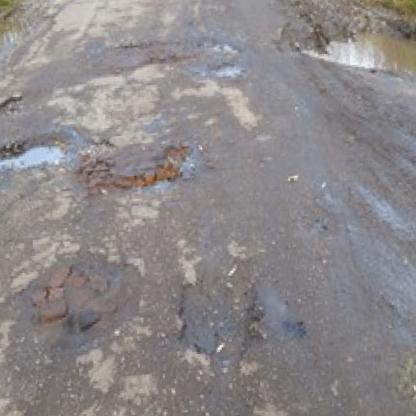pothole: (8, 248, 148, 344), (75, 132, 200, 199), (175, 255, 257, 357), (0, 139, 68, 172), (0, 92, 25, 117), (210, 61, 244, 77)
